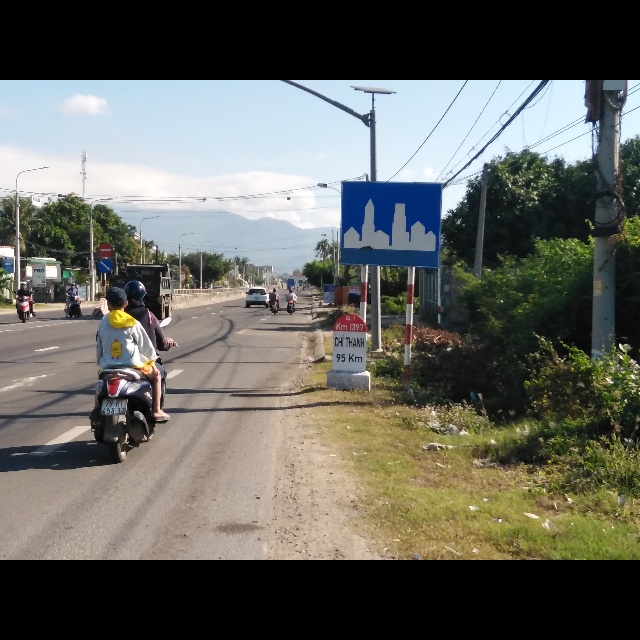Khu đông dân cư: (338, 180, 443, 267)
